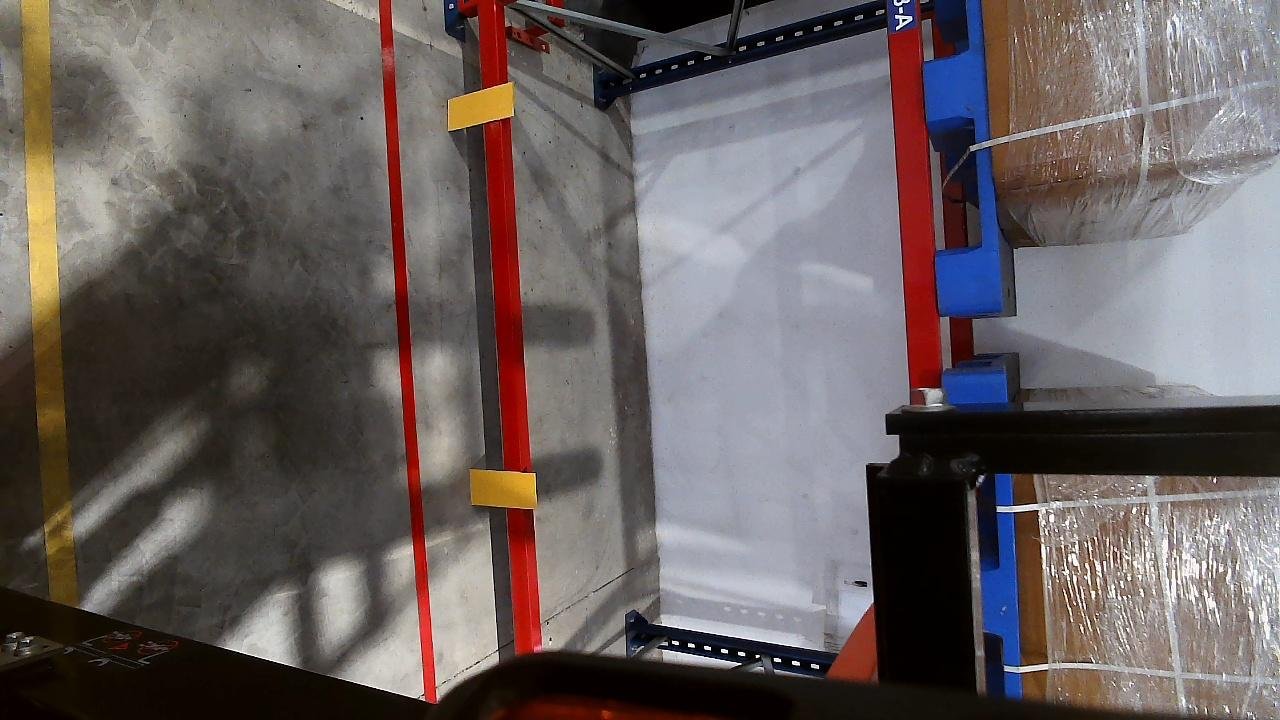h_rack: (480, 3, 540, 653), (882, 0, 943, 407)
orange_strip: (445, 83, 515, 130), (470, 469, 535, 509)
red_line: (381, 0, 430, 664)
small_pallet: (917, 1, 1006, 311)
yellow_line: (18, 0, 74, 605)
